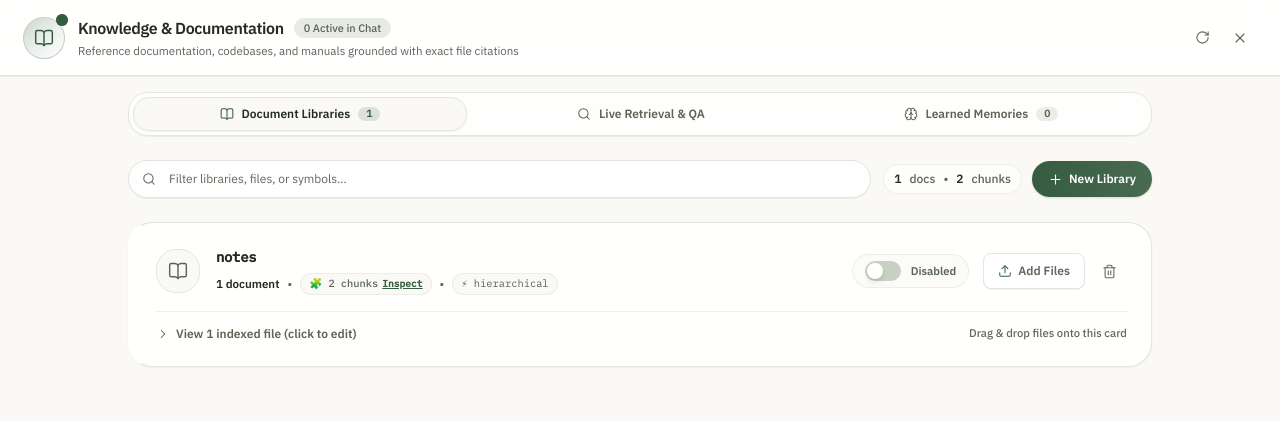
knowledge chunk paging › stops a repeated cursor instead of looping
Click the button titled "Inspect actual chunks and AST boundaries". click: (366, 284)
box: 300,273 -> 432,295
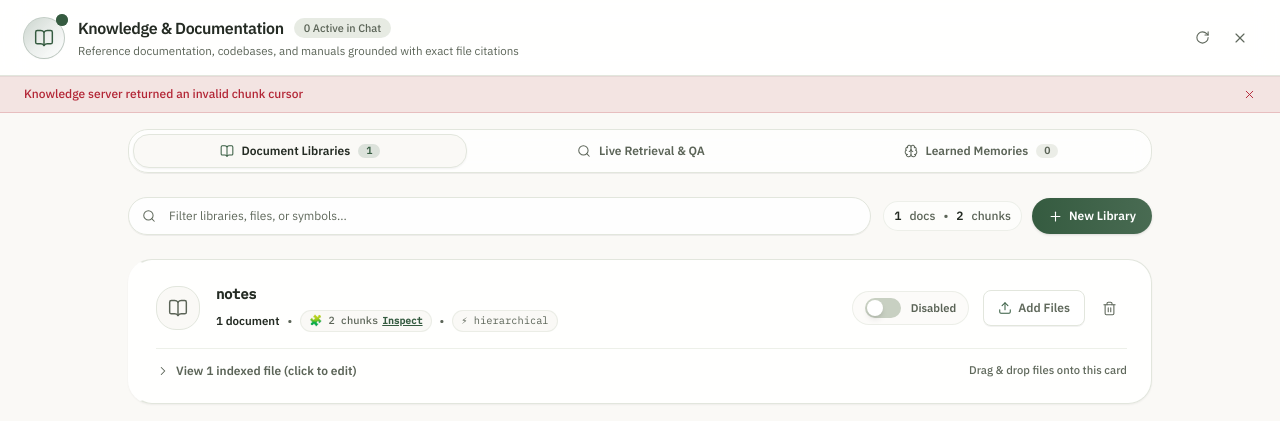
Result: the text "Knowledge server returned an invalid chunk cursor" is shown at 24,86 -> 311,102
